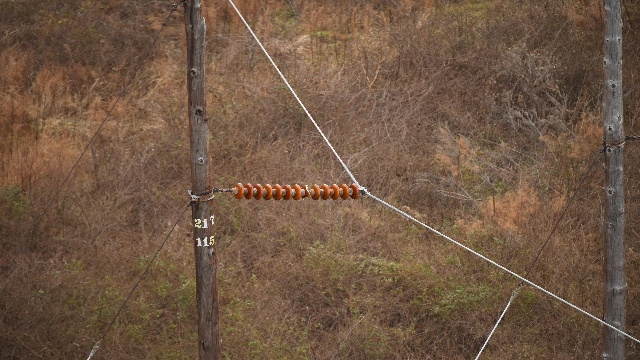broken_local: (303, 184, 310, 200)
insulator_unspecified: (234, 183, 359, 201)
